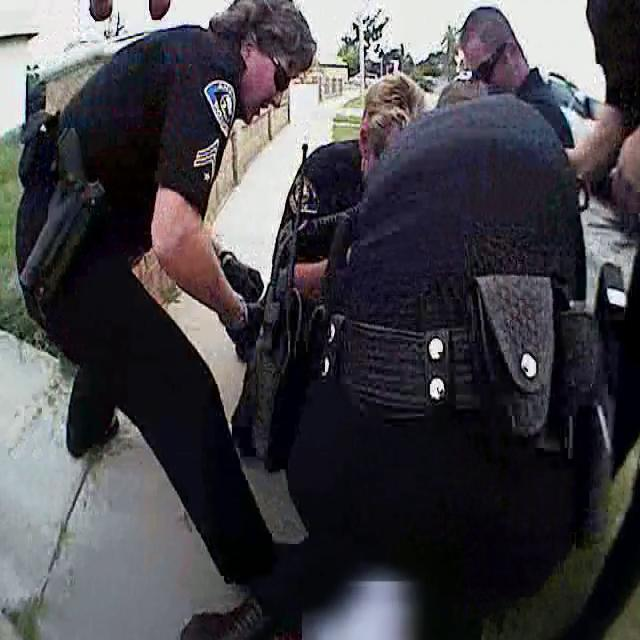gun: (14, 110, 127, 326)
